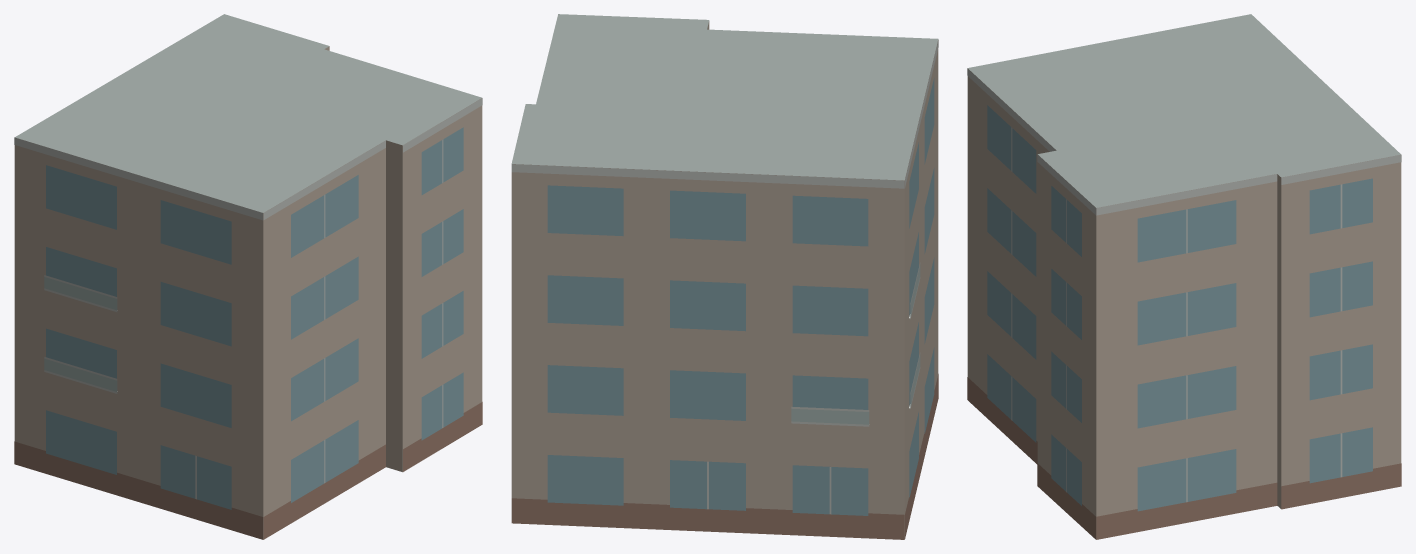
File: survey-upis-32537366.glb
3 views of the same model, side by side, from view 1: azimuth 30°, elevation 25°; view 2: azimuth 150°, elevation 25°; view 3: azimuth 270°, elevation 25° (orthographic). The views are drawn at different scales.
Visible parts, largest first — view 1: survey-upis-32537366.tmp; view 2: survey-upis-32537366.tmp; view 3: survey-upis-32537366.tmp.
Boxes of the visible parts, x1=… form: survey-upis-32537366.tmp: x1=14, y1=14, x2=482, y2=539; survey-upis-32537366.tmp: x1=511, y1=14, x2=938, y2=539; survey-upis-32537366.tmp: x1=967, y1=14, x2=1401, y2=539.
Size of the model in its own units: 13.36 by 10.65 by 12.63.
